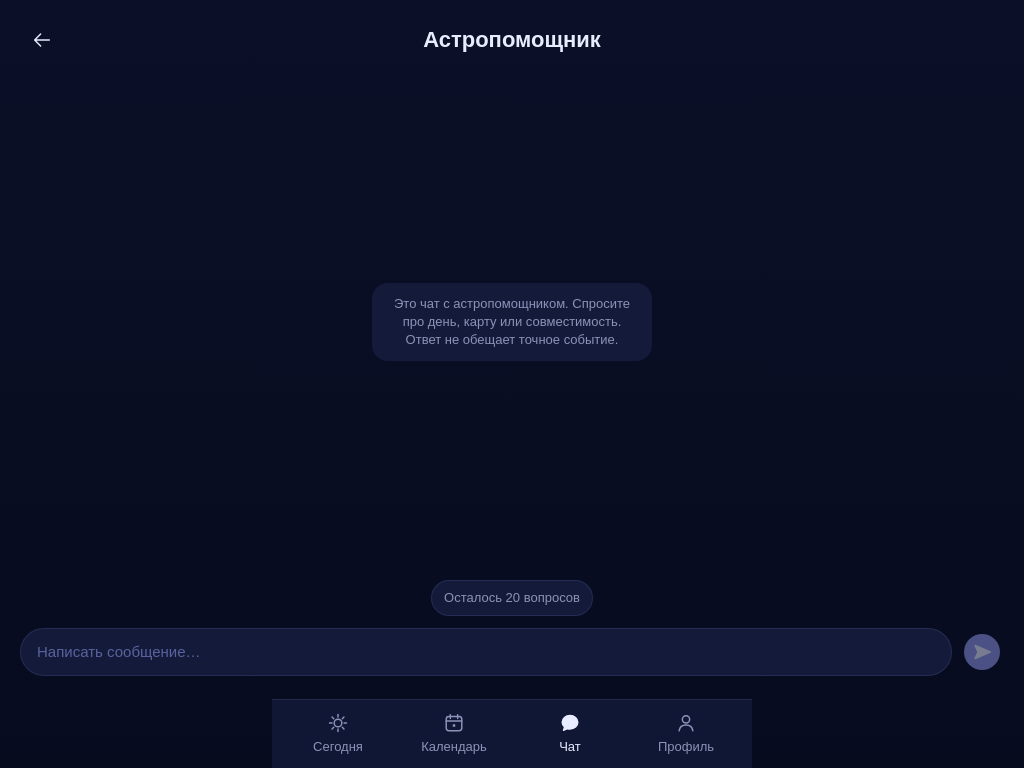
screens › draws the sent question and a loader before the model answers
Expected: the text "Осталось 20 вопросов" is shown, left=431, top=580, right=593, bottom=616
Expected: the text "Это чат с астропомощником" is shown, left=394, top=296, right=630, bottom=329
Type "Что вечером?" into the field labelled "Написать сообщение…" at (486, 652), box left=20, top=628, right=952, bottom=676
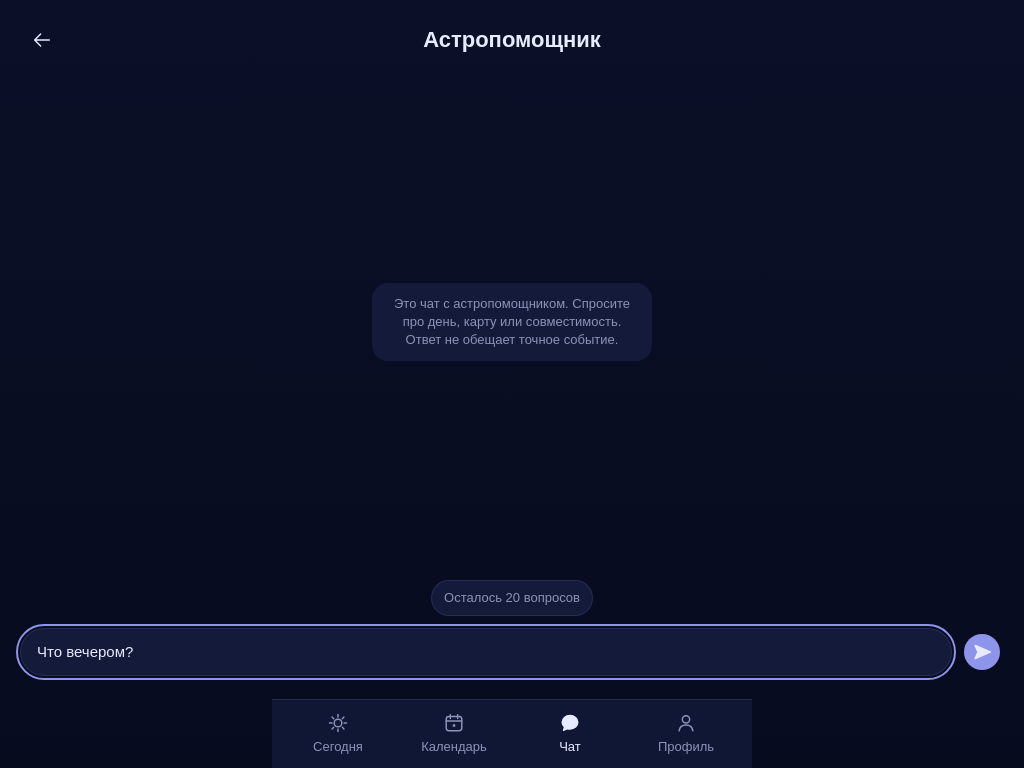
Click the button named "Отправить" at (982, 652), box left=960, top=630, right=1004, bottom=674
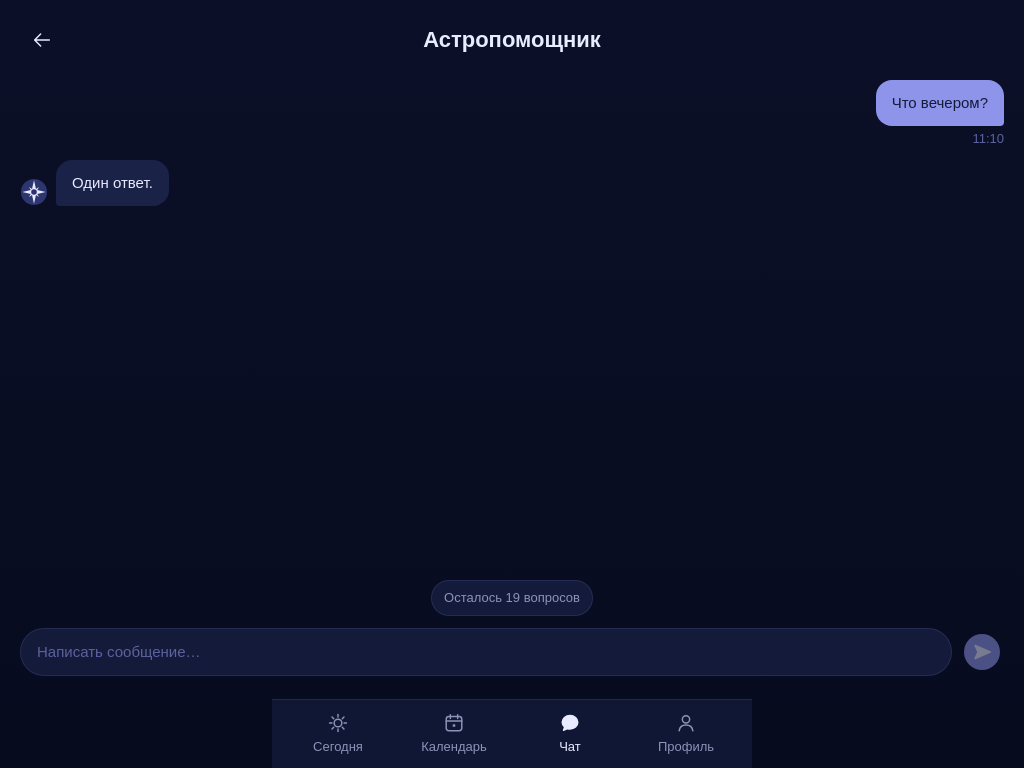
Result: the text "Это чат с астропомощником" is gone
Result: the field labelled "Написать сообщение…" is empty at left=20, top=628, right=952, bottom=676
Result: the text "Что вечером?" is shown once at left=876, top=80, right=1004, bottom=126
